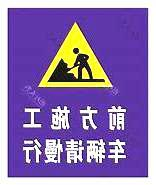sign: (8, 10, 146, 176)
